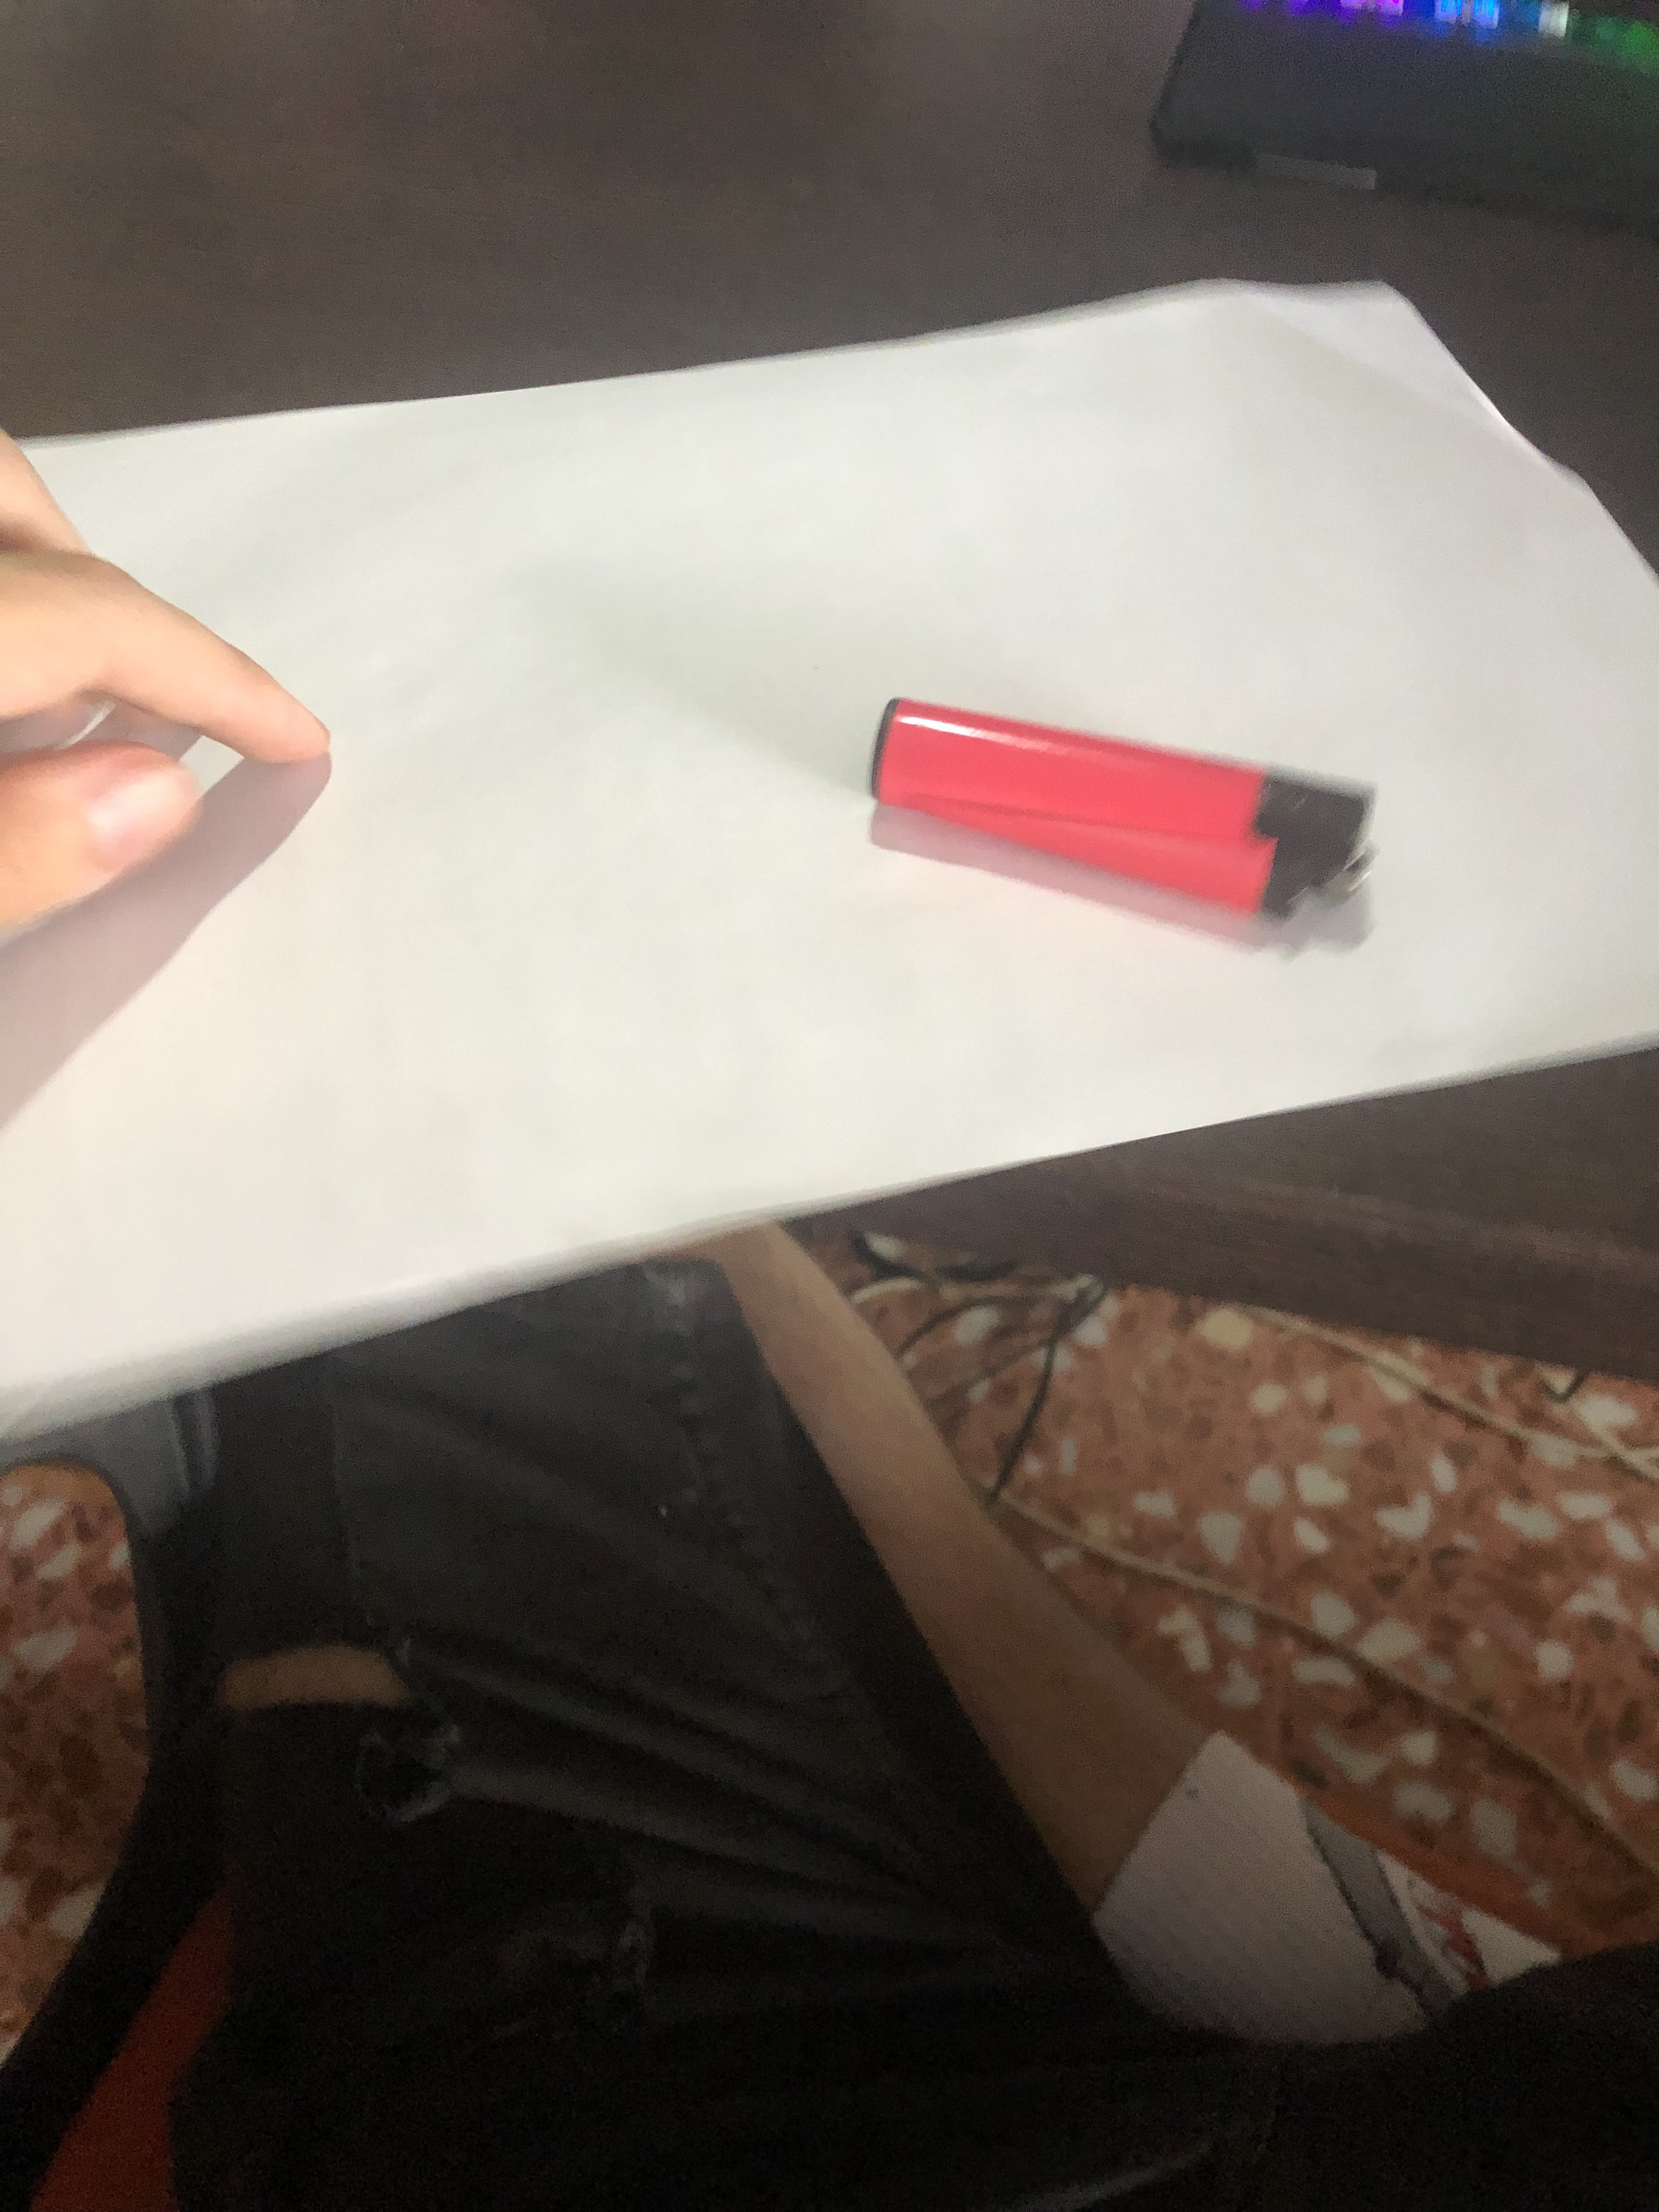Mechero: (884, 698, 1378, 965)
